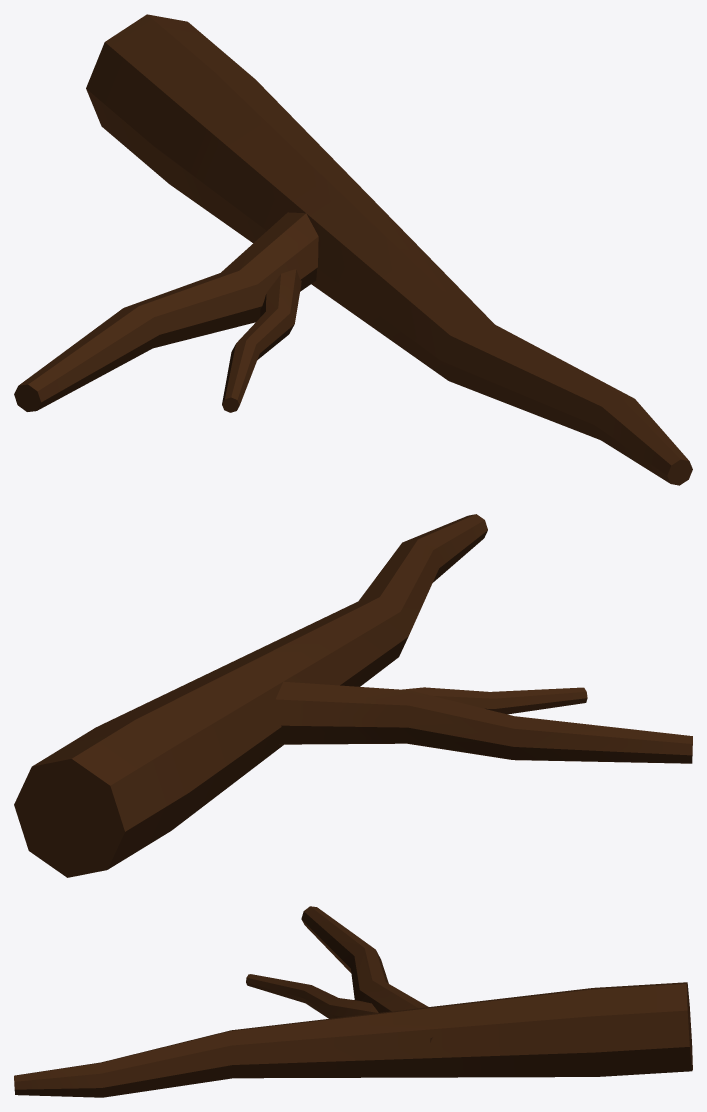
File: Fallen-Log-3.fbx
The picture shows the model from 3 angles, top to bottom: view 1: azimuth 30°, elevation 25°; view 2: azimuth 150°, elevation 25°; view 3: azimuth 270°, elevation 25°; orthographic projection. The views are drawn at different scales.
Parts seen in each view (by area): view 1: Cylinder.097; view 2: Cylinder.097; view 3: Cylinder.097.
Boxes of the visible parts, x1,y1,x2,y2 form: Cylinder.097: [14, 14, 692, 485]; Cylinder.097: [14, 514, 692, 877]; Cylinder.097: [14, 906, 692, 1097].
Bounding box in the file's own units: 101 × 27.88 × 180.
